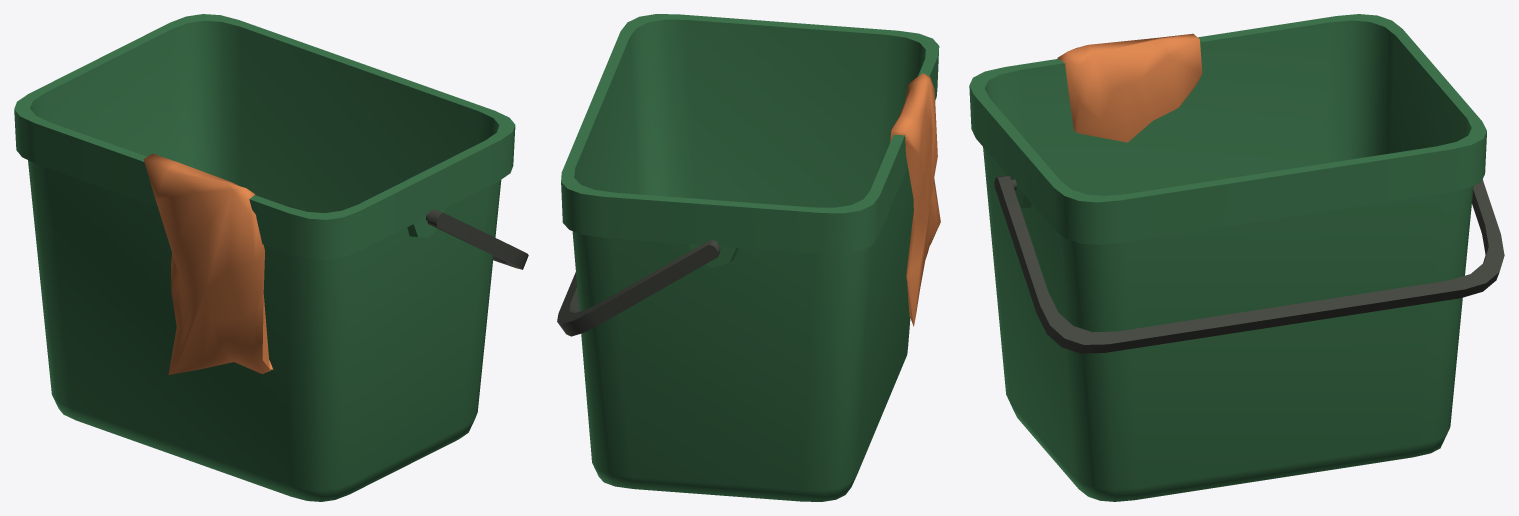
The model's file is Bucket1.fbx.
3 views of the same model, side by side, from view 1: azimuth 30°, elevation 25°; view 2: azimuth 150°, elevation 25°; view 3: azimuth 270°, elevation 25° (orthographic). The views are drawn at different scales.
Visible parts, largest first — view 1: 02_Props-group_02; view 2: 02_Props-group_02; view 3: 02_Props-group_02.
Part boxes in pixels (x1,y1,x2,y2): 02_Props-group_02: [14, 14, 528, 501]; 02_Props-group_02: [557, 14, 940, 501]; 02_Props-group_02: [969, 14, 1504, 501].
Size of the model in its own units: 32.15 by 26.01 by 38.02.
